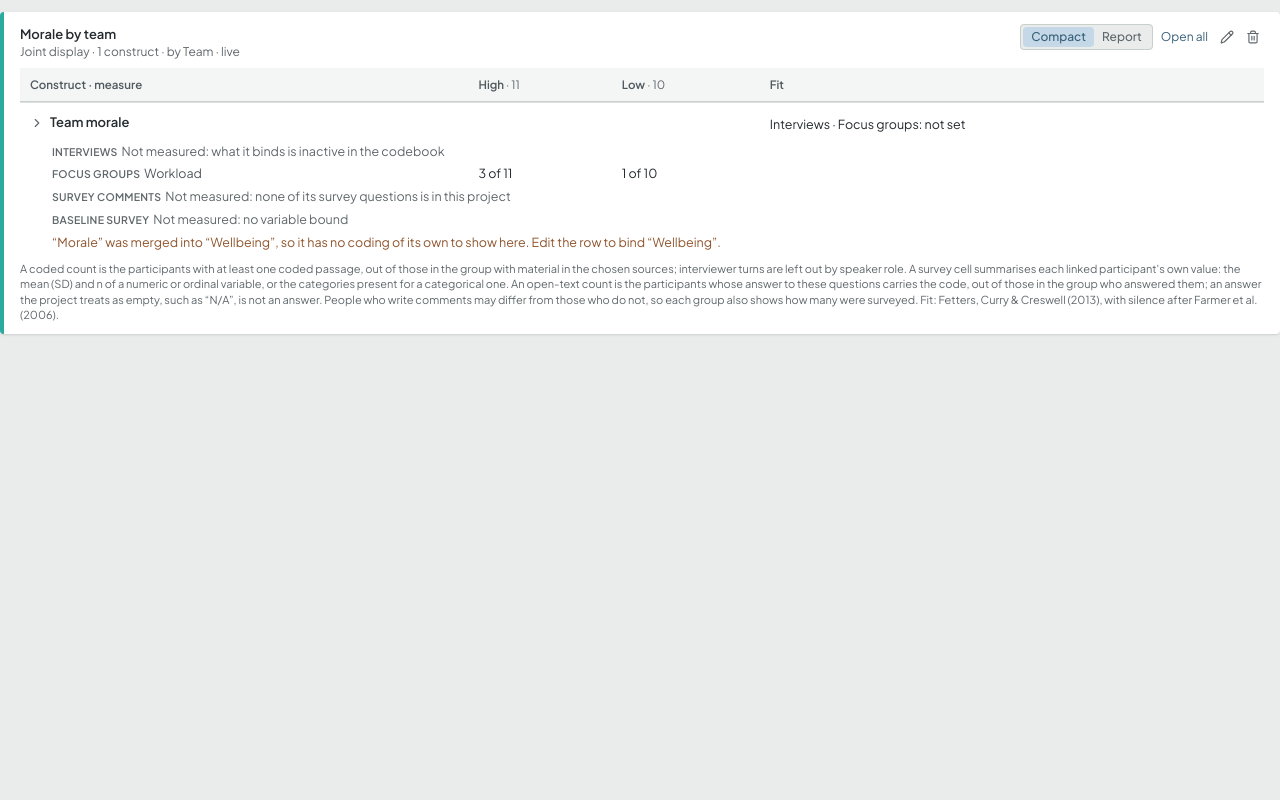
Test: #1659 — the Compact view says why a strand is not measured › the open construct’s strand status gives each strand its own reason, not the shared sentence
This screenshot has width=1280, height=800.
Expected: the table is shown, [20,68,1264,253]
Click the button "Team morale" at (80, 123), box [30,113,130,133]
(page scrolled)
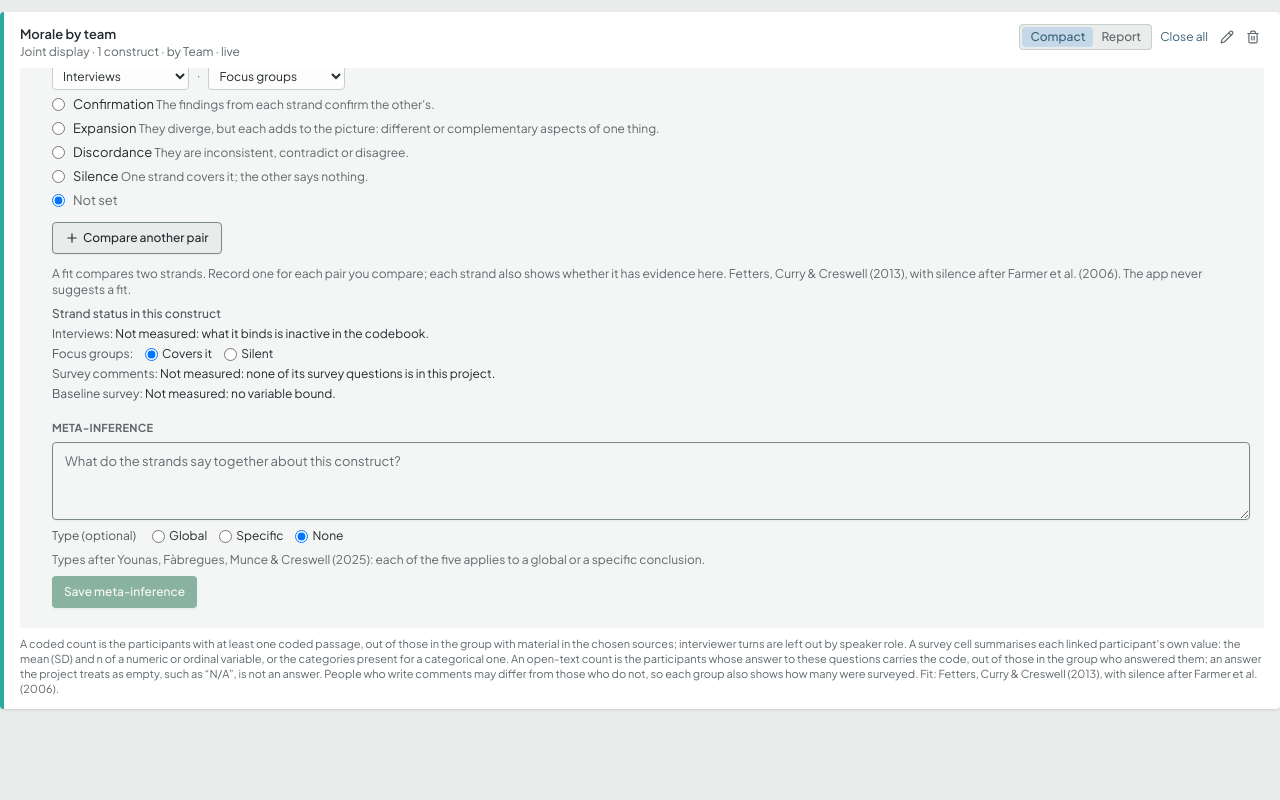
Now the text "Not measured: what it binds is inactive in the codebook." is shown, box [52,326,429,341]
Now the text "Not measured: none of its survey questions is in this project." is shown, box [52,366,495,381]
Now the text "Not measured: no variable bound." is shown, box [52,386,336,401]
